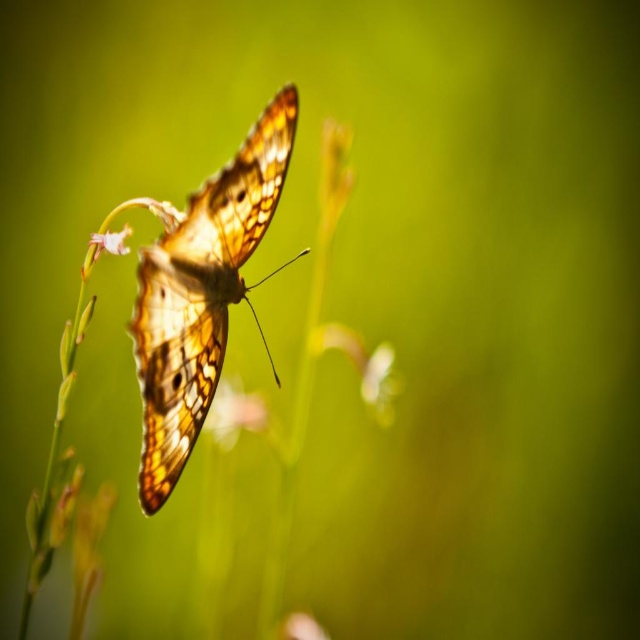Butterfly: (126, 80, 310, 517)
